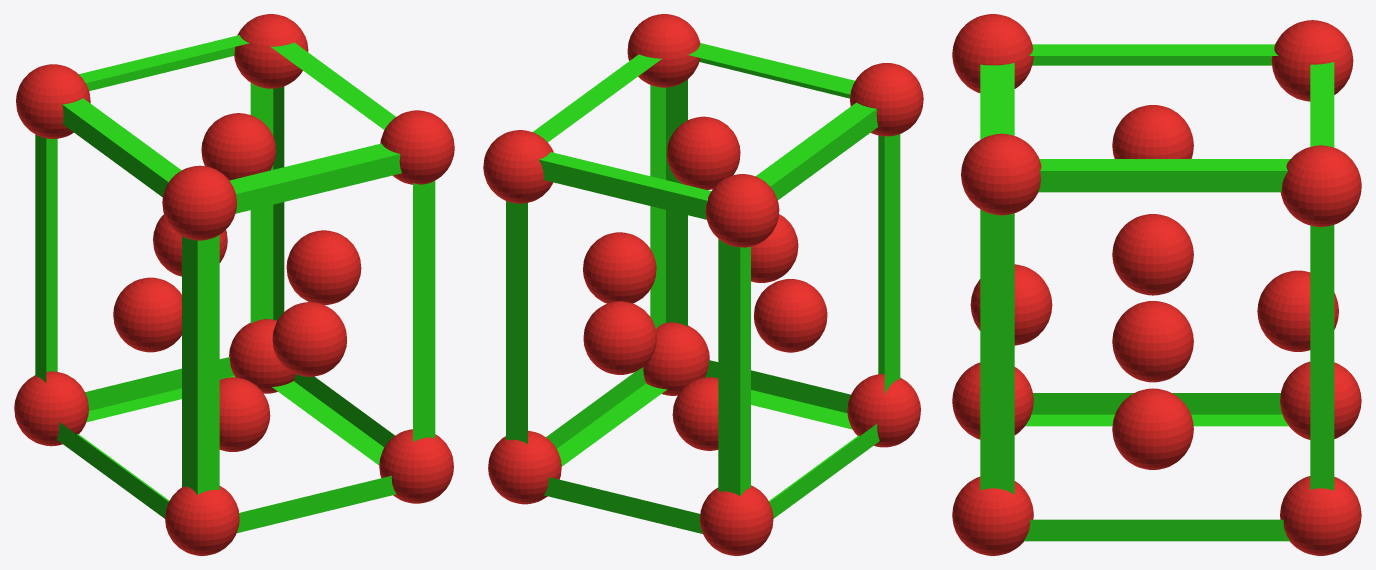
The model's file is orthoV2.fbx.
3 views of the same model, side by side, from view 1: azimuth 30°, elevation 25°; view 2: azimuth 150°, elevation 25°; view 3: azimuth 270°, elevation 25° (orthographic). The views are drawn at different scales.
Parts seen in each view (by area): view 1: Sphere.001; view 2: Sphere.001; view 3: Sphere.001.
Boxes of the visible parts, x1,y1,x2,y2 form: Sphere.001: (14, 14, 454, 555); Sphere.001: (483, 14, 923, 555); Sphere.001: (952, 14, 1361, 555).
Size of the model in its own units: 265 by 339 by 301.
